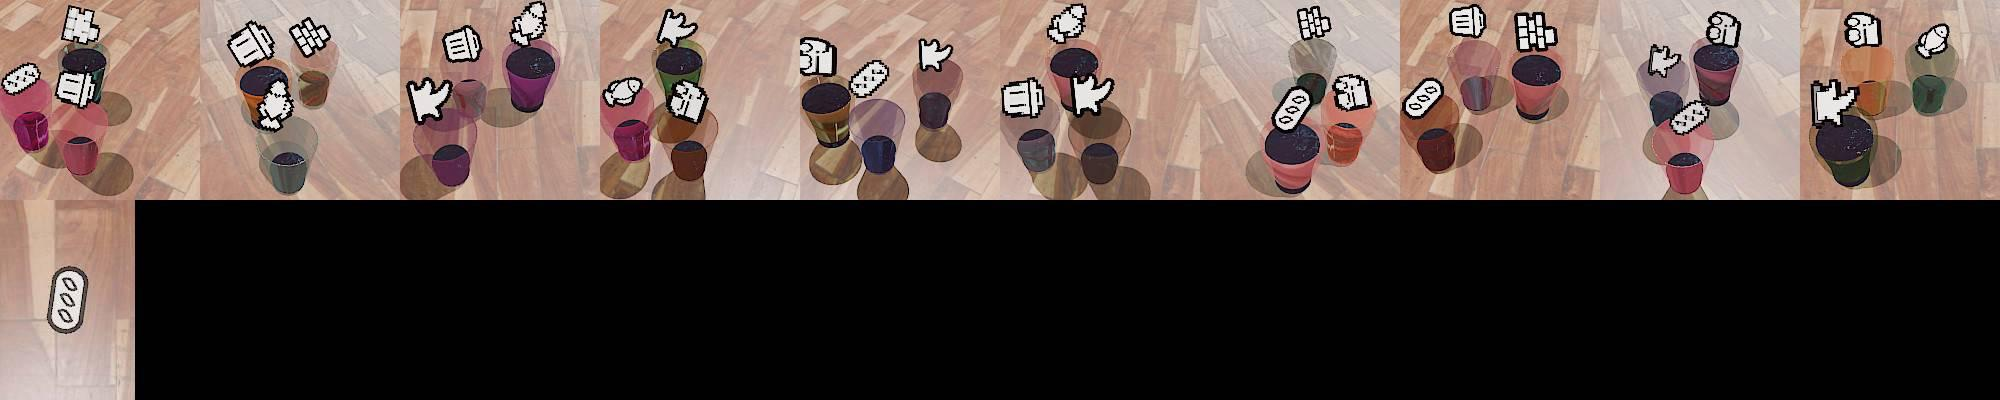icon: (45, 265, 88, 334), (227, 19, 277, 69), (406, 75, 453, 125), (1811, 78, 1858, 125), (1070, 70, 1117, 117), (254, 78, 293, 131), (52, 70, 101, 112), (1270, 84, 1312, 132), (290, 17, 334, 60), (1514, 10, 1559, 54), (1000, 76, 1046, 118), (667, 78, 708, 124), (510, 1, 548, 47), (60, 4, 101, 46), (848, 59, 890, 99), (797, 36, 838, 78), (1332, 71, 1372, 112), (657, 9, 698, 50), (1047, 3, 1088, 43), (1404, 76, 1444, 118), (441, 24, 483, 64), (0, 61, 42, 97), (1296, 4, 1333, 42), (1843, 11, 1881, 48), (1449, 4, 1487, 39), (1705, 10, 1741, 48), (1670, 101, 1709, 135), (602, 76, 644, 107), (1915, 23, 1950, 59), (918, 37, 953, 73), (1648, 43, 1681, 78)
